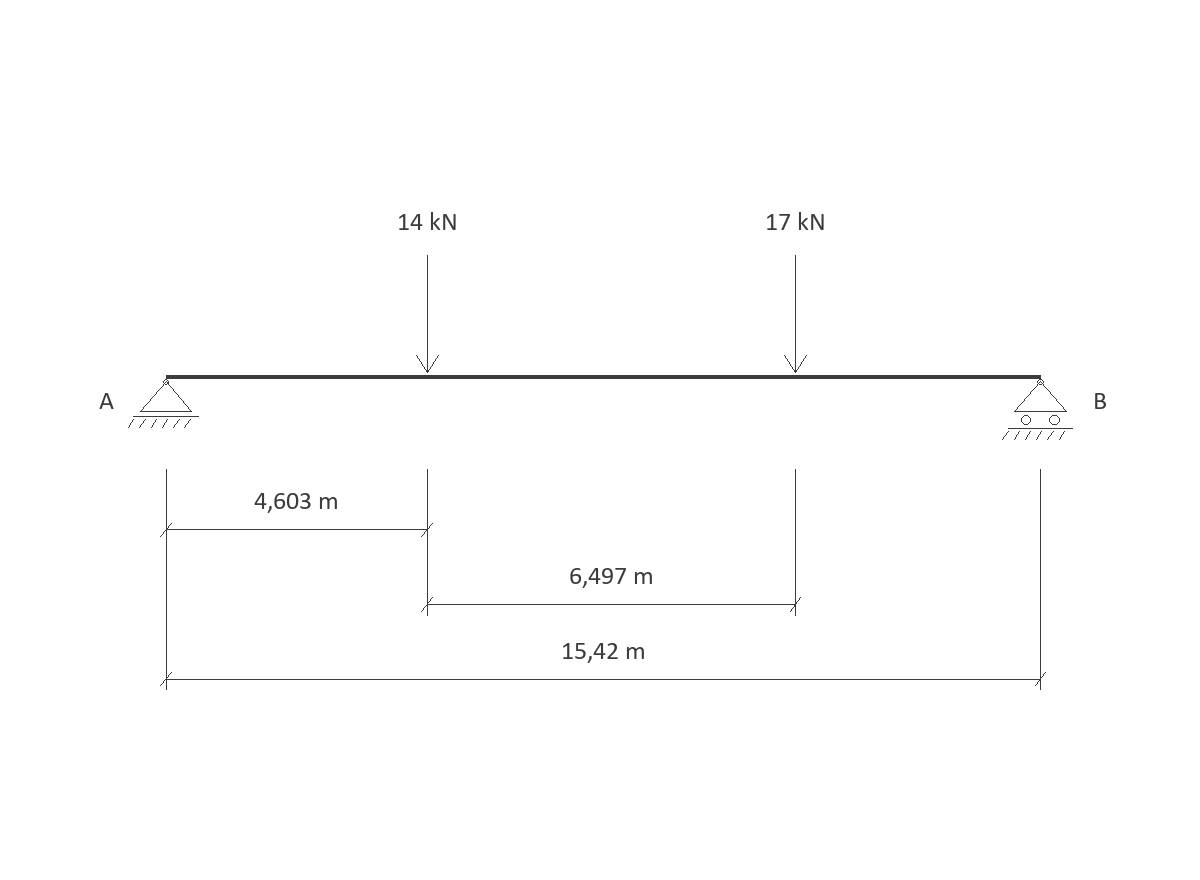pin_support: (128, 379, 199, 428)
point_load: (416, 255, 439, 373), (784, 255, 807, 373)
roller_support: (1002, 379, 1073, 440)
